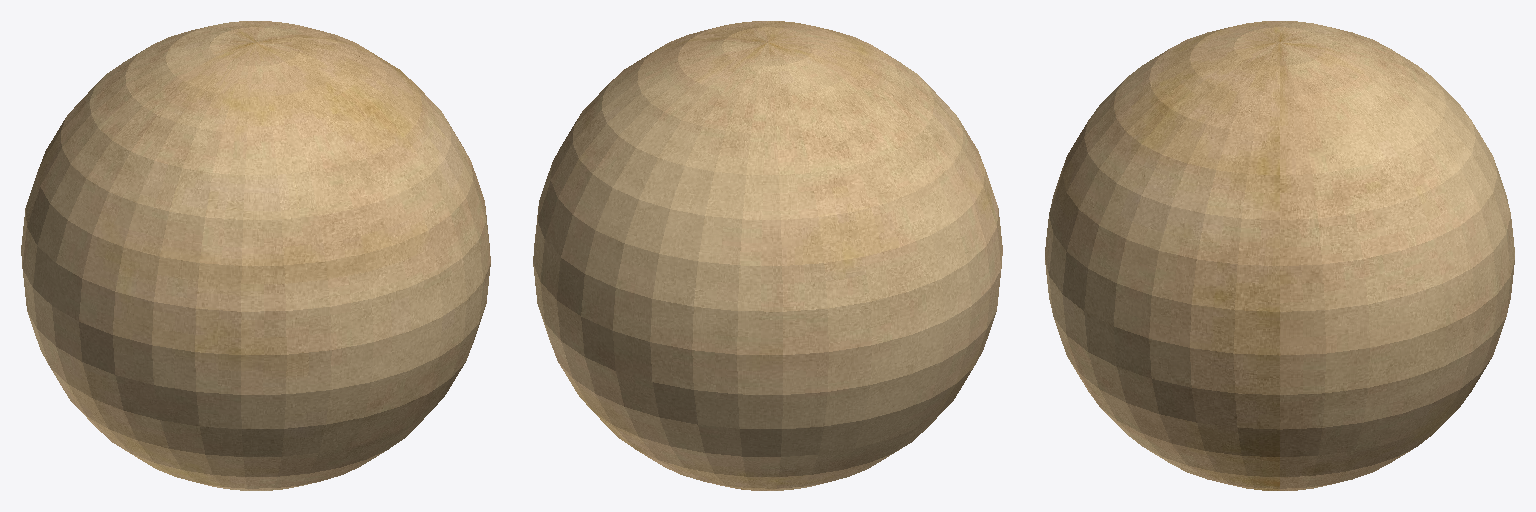
3 views of the same model, side by side, from view 1: azimuth 30°, elevation 25°; view 2: azimuth 150°, elevation 25°; view 3: azimuth 270°, elevation 25° (orthographic).
Visible parts, largest first — view 1: 球_球.004; view 2: 球_球.004; view 3: 球_球.004.
Boxes of the visible parts, box(x1,y1,x2,y2) form: 球_球.004: box(21, 21, 490, 490); 球_球.004: box(533, 21, 1002, 490); 球_球.004: box(1045, 21, 1514, 490).
Size of the model in its own units: 200 by 200 by 200.
Materials: 1 (1 with a texture image).